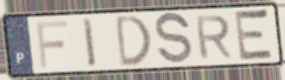D: (114, 13, 153, 69)
E: (233, 7, 276, 63)
F: (34, 19, 70, 70)
I: (81, 16, 99, 70)
R: (193, 14, 235, 61)
S: (154, 10, 195, 67)
